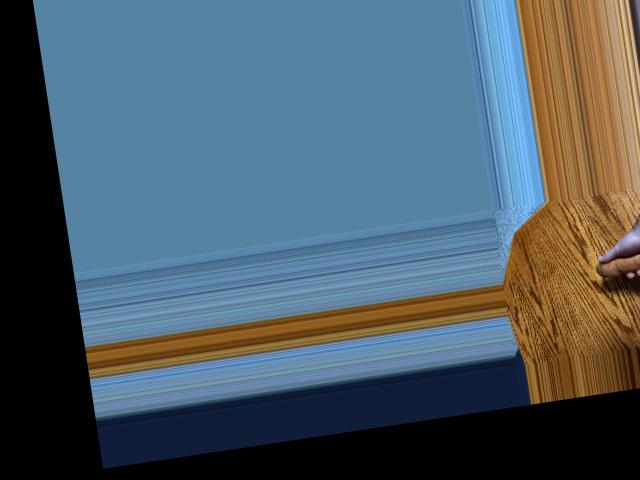sweet_potato: (592, 231, 640, 281)
